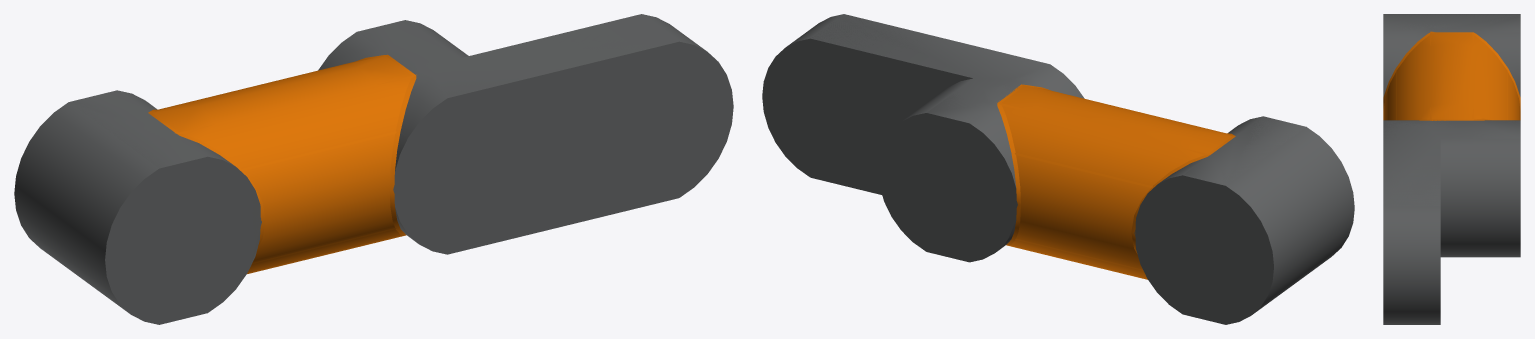
The picture shows the model from 3 angles, left to right: view 1: azimuth 30°, elevation 25°; view 2: azimuth 150°, elevation 25°; view 3: azimuth 270°, elevation 25°; orthographic projection. The views are drawn at different scales.
Parts seen in each view (by area): view 1: c1_LOD0, c1_col; view 2: c1_LOD0, c1_col; view 3: c1_LOD0, c1_col.
Part boxes in pixels (<box>): c1_LOD0: <box>14,14,733,324</box>; c1_col: <box>69,14,733,324</box>; c1_LOD0: <box>762,14,1354,324</box>; c1_col: <box>763,15,1306,324</box>; c1_LOD0: <box>1383,14,1520,324</box>; c1_col: <box>1383,14,1520,206</box>.
Size of what is drawn, in the model's own units: 48 by 11.93 by 12.
